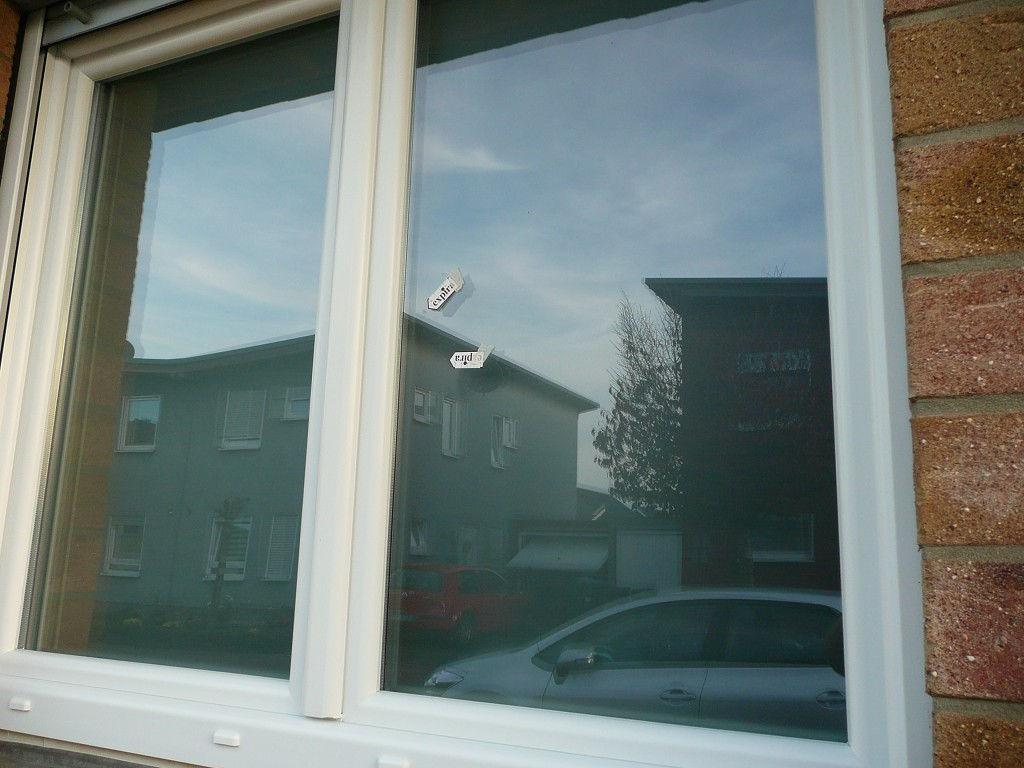windows: (16, 19, 886, 745)
